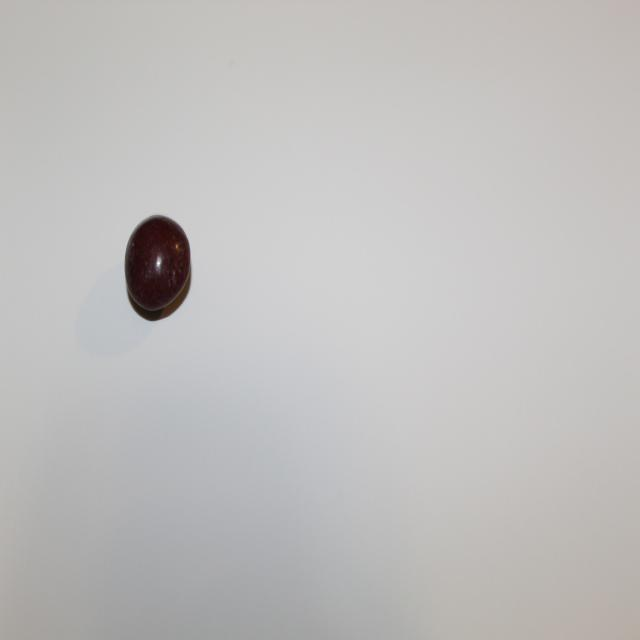smartie: (124, 214, 190, 310)
